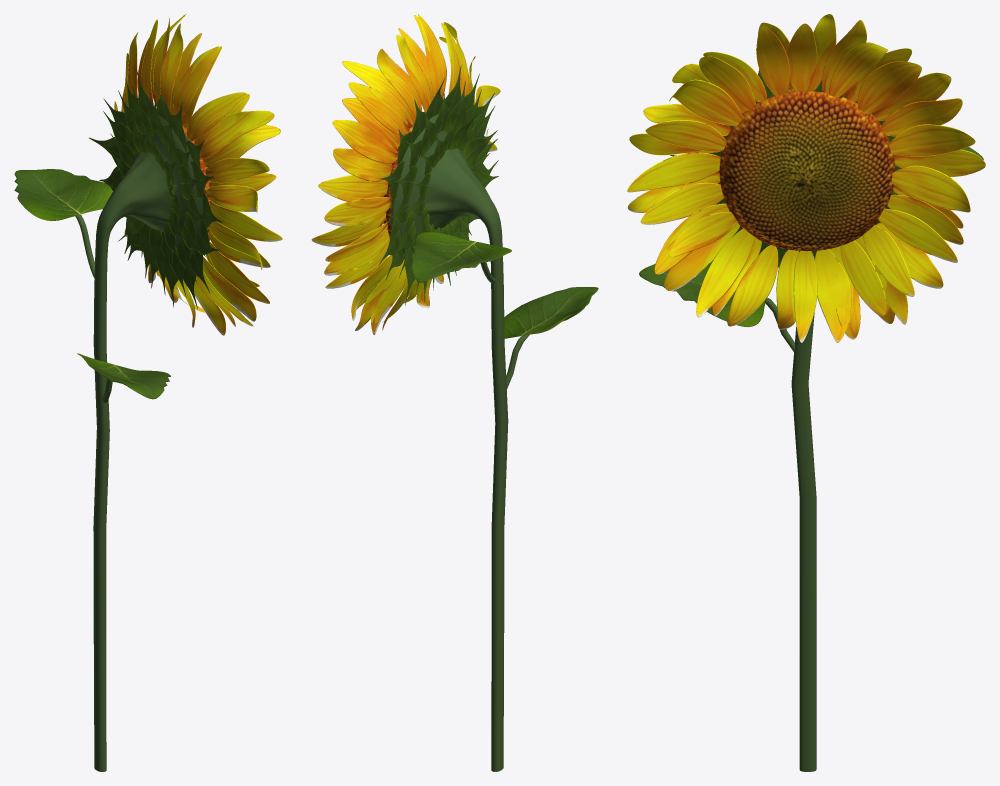
Rendered from sunflower.gltf.
3 renders of one model, left to right at view 1: azimuth 30°, elevation 25°; view 2: azimuth 150°, elevation 25°; view 3: azimuth 270°, elevation 25°, orthographic. The views are drawn at different scales.
Parts seen in each view (by area): view 1: Plane_OJITAS_0_4, Cube.001_Material.001_0_110, Cube.002_ojita_0_117, Cube.003_ojita_0_121; view 2: Plane_OJITAS_0_4, Cube.001_Material.001_0_110, Cube.002_ojita_0_117, Cube.003_ojita_0_121; view 3: Plane_OJITAS_0_4, Cube_GIRASOLITO_0_6, Cube.001_Material.001_0_110, Cube.003_ojita_0_121.
Boxes of the visible parts, <box> form: Plane_OJITAS_0_4: <box>114,14,282,335</box>; Cube.001_Material.001_0_110: <box>93,115,205,771</box>; Cube.002_ojita_0_117: <box>14,169,113,220</box>; Cube.003_ojita_0_121: <box>77,353,170,399</box>; Plane_OJITAS_0_4: <box>311,14,500,334</box>; Cube.001_Material.001_0_110: <box>391,114,508,771</box>; Cube.002_ojita_0_117: <box>411,232,511,282</box>; Cube.003_ojita_0_121: <box>504,287,598,338</box>; Plane_OJITAS_0_4: <box>627,14,985,342</box>; Cube_GIRASOLITO_0_6: <box>719,91,895,251</box>; Cube.001_Material.001_0_110: <box>791,312,816,771</box>; Cube.003_ojita_0_121: <box>639,260,766,326</box>.
Size of the model in its own units: 253 by 1041 by 421.
Materials: 5 (4 with a texture image).
